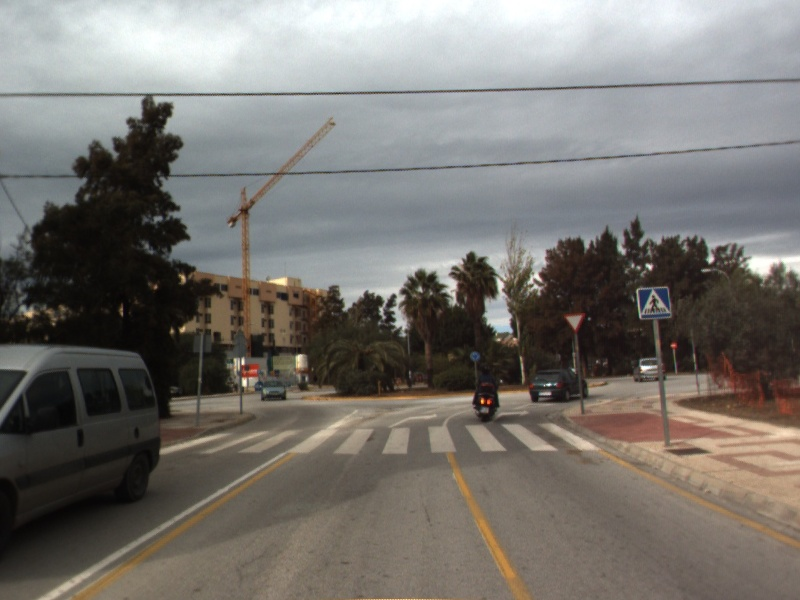RIGHT: (386, 412, 439, 430), (488, 408, 532, 424)
